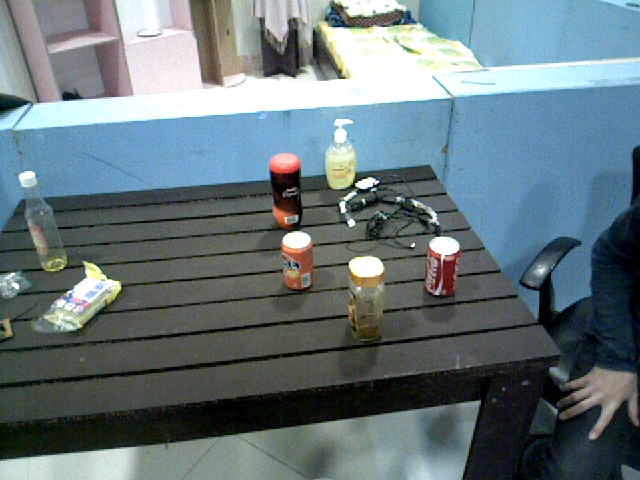coca: (429, 237, 460, 298)
coffee: (348, 253, 387, 346)
cream: (269, 151, 306, 231)
fanta: (282, 230, 315, 292)
